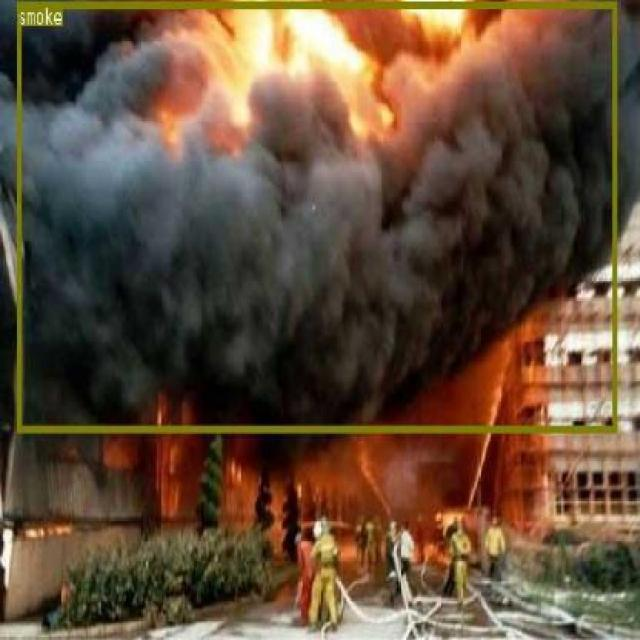Smoke: (16, 1, 616, 432)
